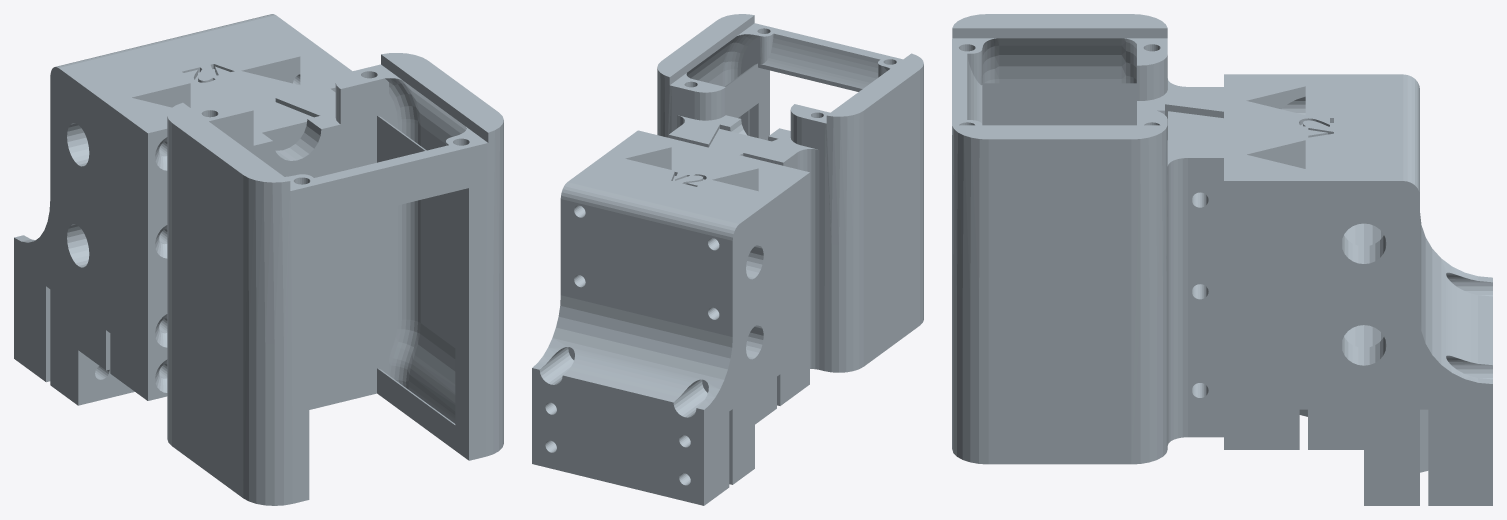
The model's file is corexy_carriage.glb.
3 views of the same model, side by side, from view 1: azimuth 30°, elevation 25°; view 2: azimuth 150°, elevation 25°; view 3: azimuth 270°, elevation 25° (orthographic). The views are drawn at different scales.
Visible parts, largest first — view 1: CoreXYCarriage; view 2: CoreXYCarriage; view 3: CoreXYCarriage.
Part boxes in pixels (x1,y1,x2,y2): CoreXYCarriage: [14, 14, 503, 505]; CoreXYCarriage: [532, 14, 923, 505]; CoreXYCarriage: [952, 14, 1492, 505].
Bounding box in the file's own units: 1.04 × 1.44 × 1.89.
